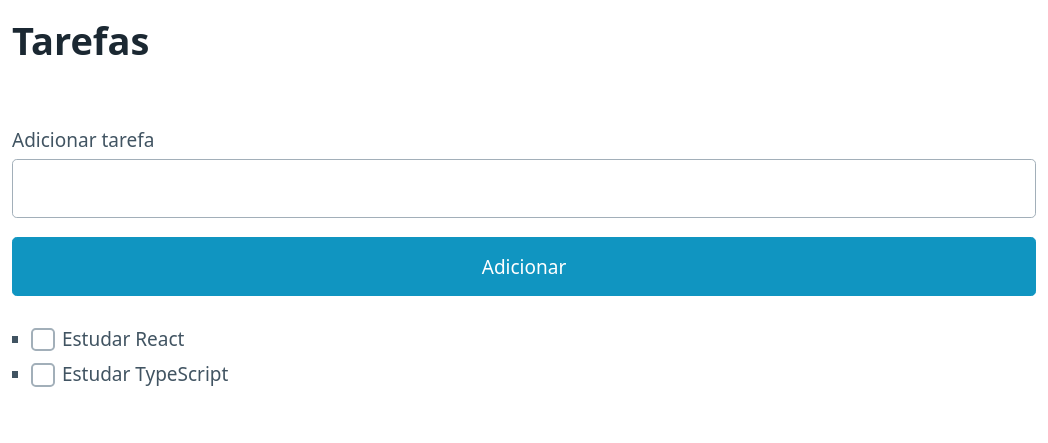
Test case: <Tasks /> › deve renderizar o componente, adicionar uma tarefa e marcá-la e desmarcá-la como concluída
Expected: the heading "Tarefas" is shown, [12,14,149,66]
Expected: the text "Estudar React" is shown, [31,326,184,352]
Type "Estudar GraphQL" into the field labelled "Adicionar tarefa" at (524, 189), box [12,159,1036,218]
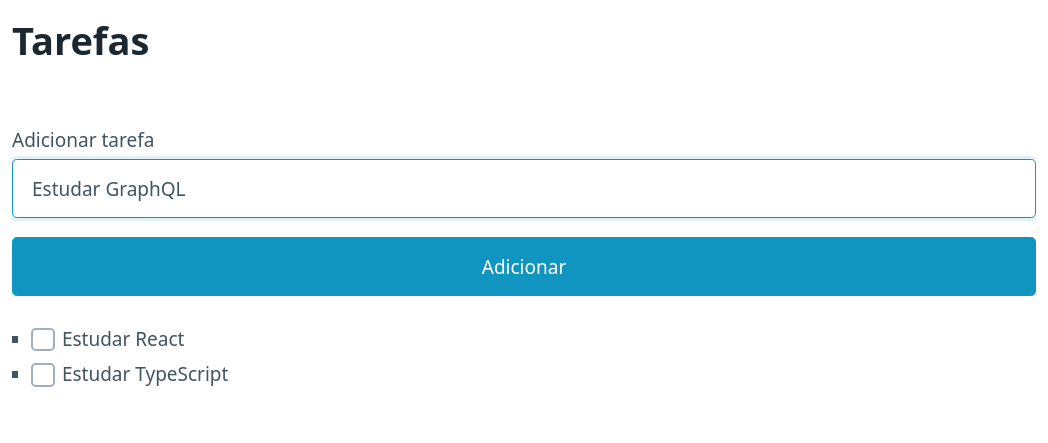
Click the button "Adicionar" at (524, 267), box [12,237,1036,296]
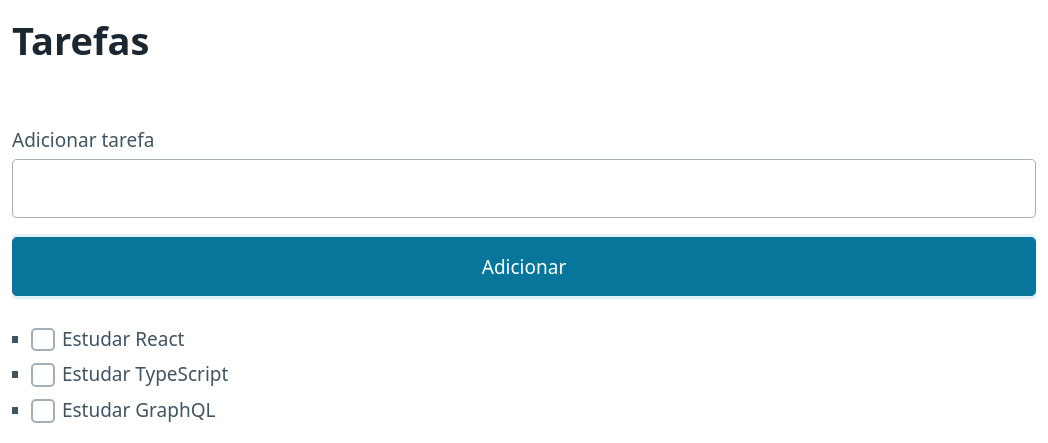
Expected: the text "Estudar GraphQL" is shown
Click the text "Estudar GraphQL" at (123, 410), box [31,397,216,423]
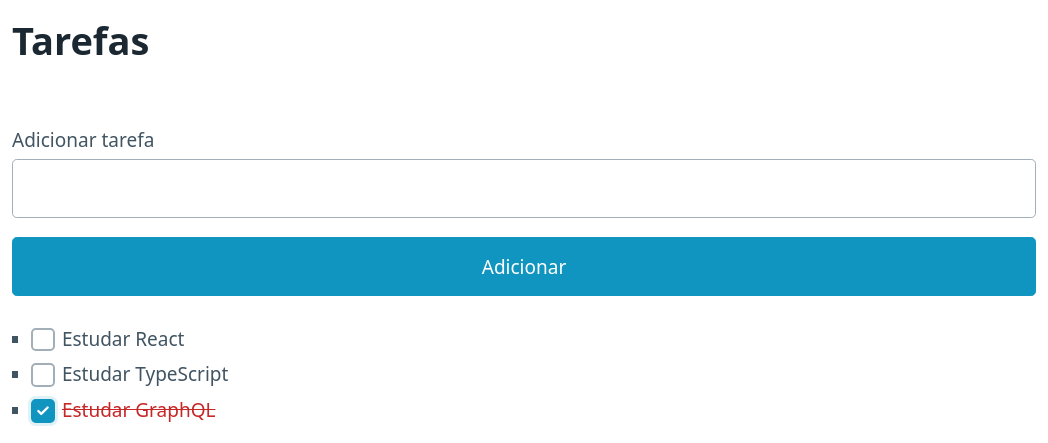
Expected: the text "Estudar GraphQL" is shown
Click the text with test id "tarefa-concluida-3" at (139, 410), box [62,397,216,423]
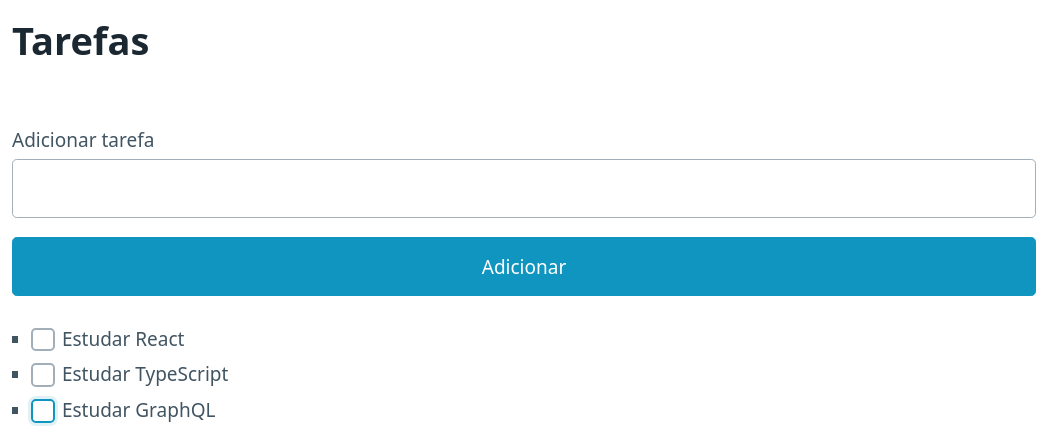
Expected: the text with test id "tarefa-concluida-3" is gone
